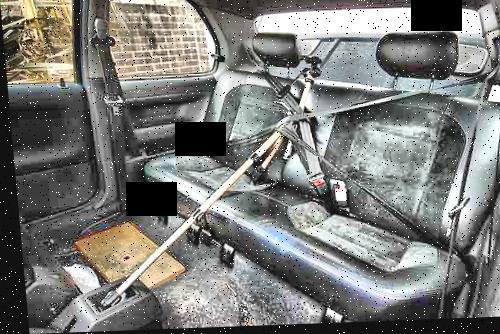seatbelt: (305, 73, 475, 138), (88, 26, 140, 214), (281, 110, 331, 206), (256, 58, 307, 128)
